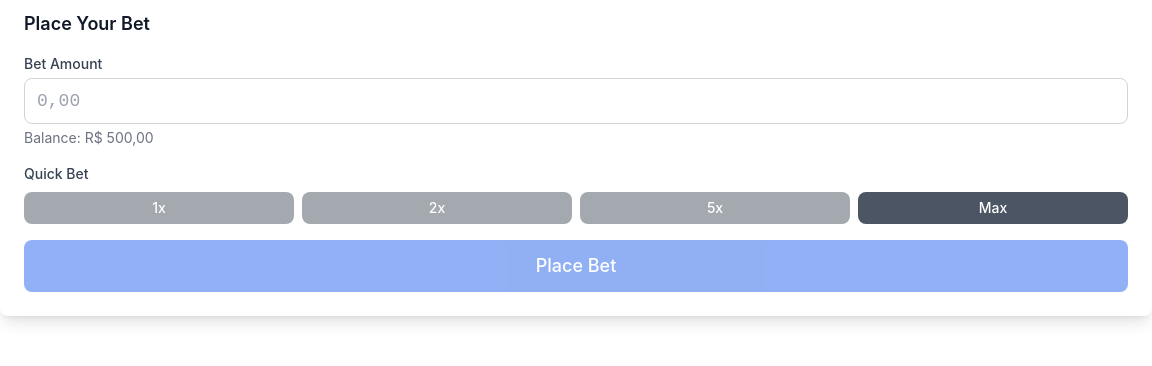
BetForm Integration - Validation with Centavos › Minimum bet validation (R$ 1.00 / 100 centavos) › should show error for amounts below R$ 1.00
The image size is (1152, 366).
# User enters R$ 0.50 (50 centavos, below minimum)
In the field labelled "Bet Amount": [576, 101] box [24,78,1128,124], type "0,50"
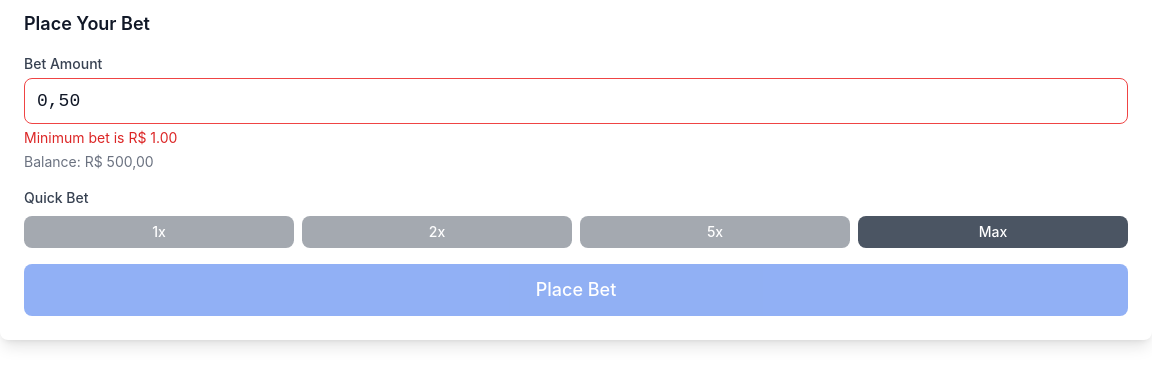
expect the text "Minimum bet is R$ 1.00" is shown: met, box [24,129,177,146]
